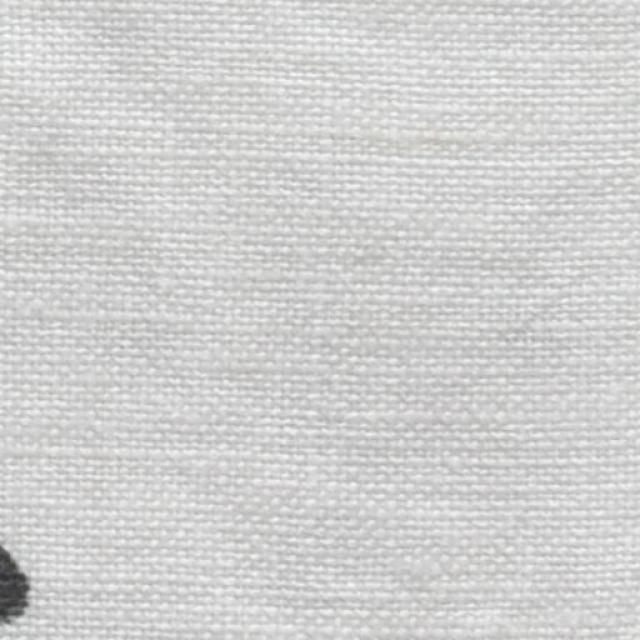Stain: (0, 548, 29, 623)
